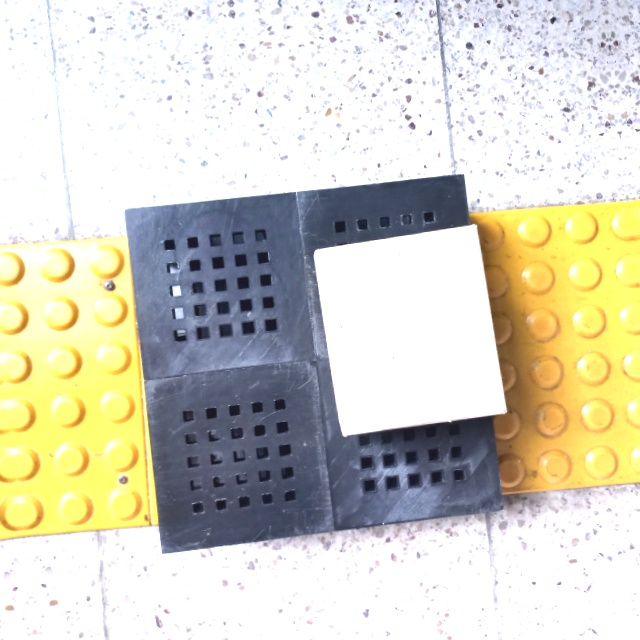box: (312, 223, 506, 439)
pallet: (109, 162, 542, 571)
